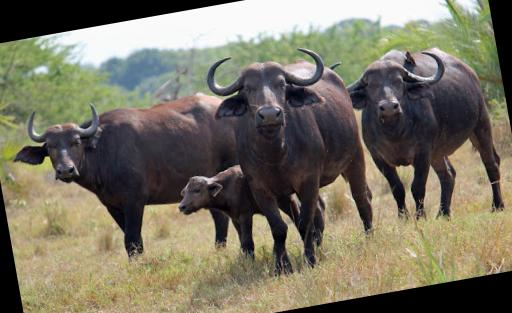Buffalo: (0, 0, 478, 248)
